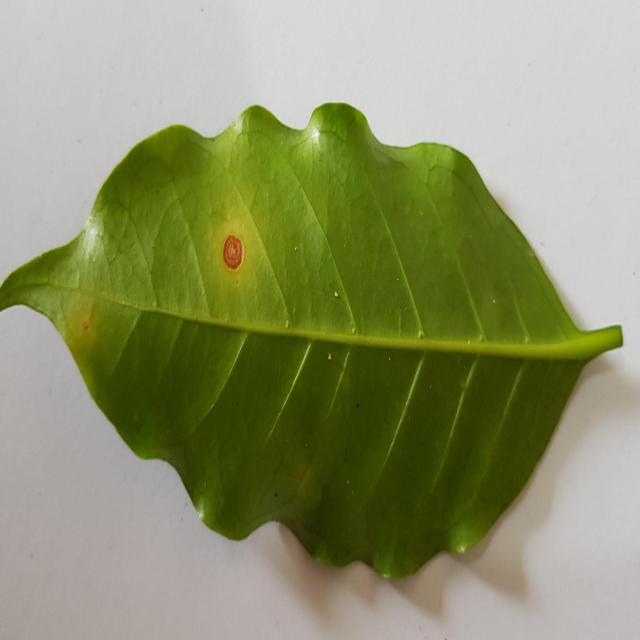Enfermedad-Mancha-de-hierro: (0, 102, 624, 583)
